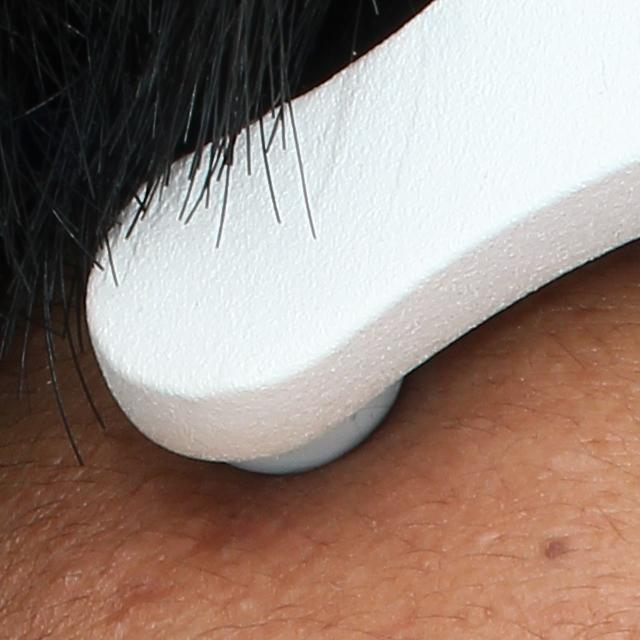comedo: (49, 558, 80, 584), (462, 525, 497, 546)
